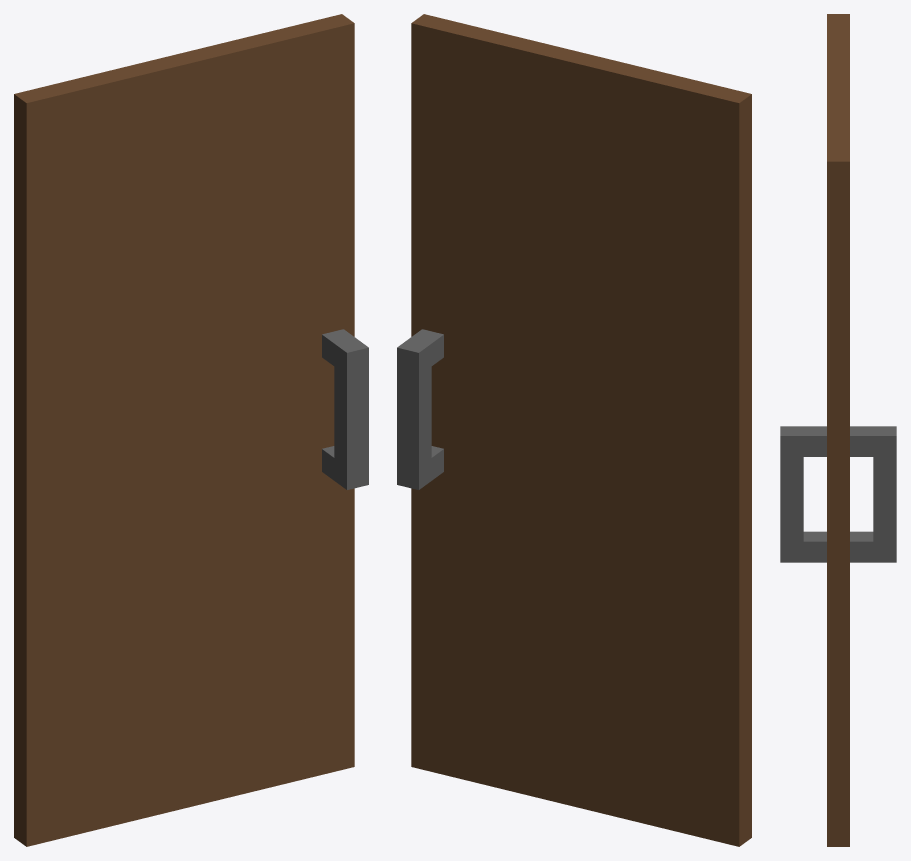
The model's file is door1.glb.
The picture shows the model from 3 angles, left to right: view 1: azimuth 30°, elevation 25°; view 2: azimuth 150°, elevation 25°; view 3: azimuth 270°, elevation 25°; orthographic projection. The views are drawn at different scales.
Parts seen in each view (by area): view 1: door1; view 2: door1; view 3: door1.
Part boxes in pixels (<box>): door1: <box>14,14,368,846</box>; door1: <box>397,14,751,846</box>; door1: <box>780,14,896,846</box>.
Bounding box in the file's own units: 0.3 × 0.65 × 0.1.
